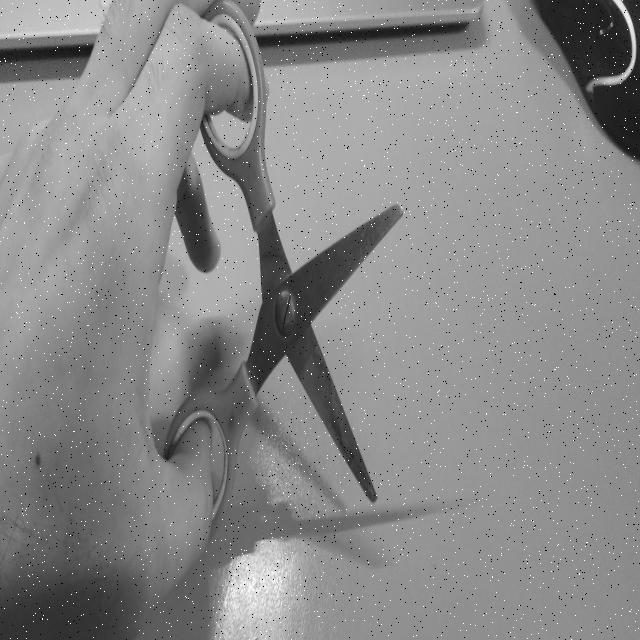scissors: (158, 2, 406, 551)
